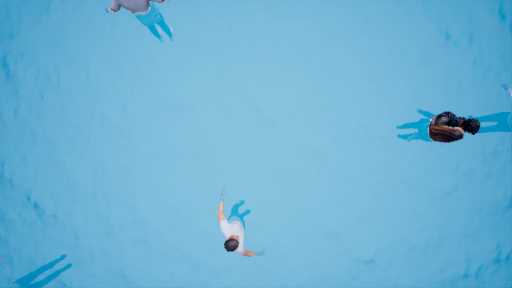person: (384, 105, 484, 151), (214, 190, 263, 261)
